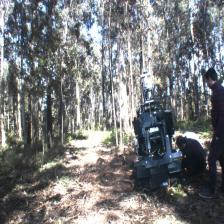trunktrack_idkeyframe: (47, 97, 53, 148)
